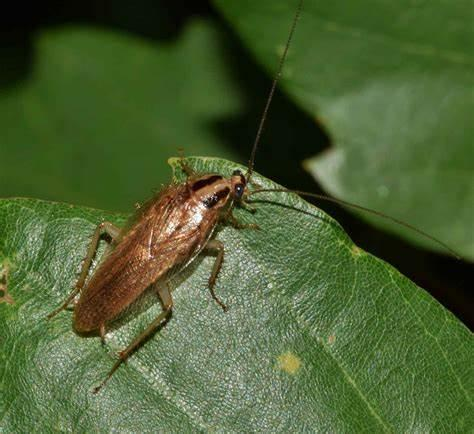cockroach: (72, 168, 248, 342)
